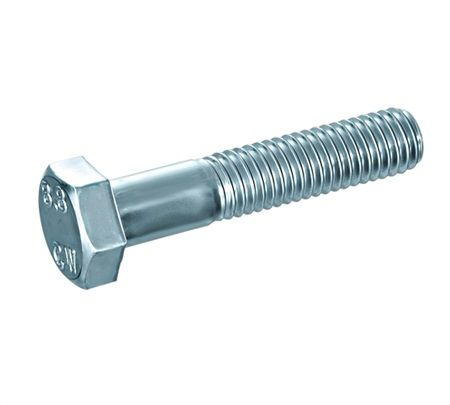screw: (37, 105, 425, 290)
